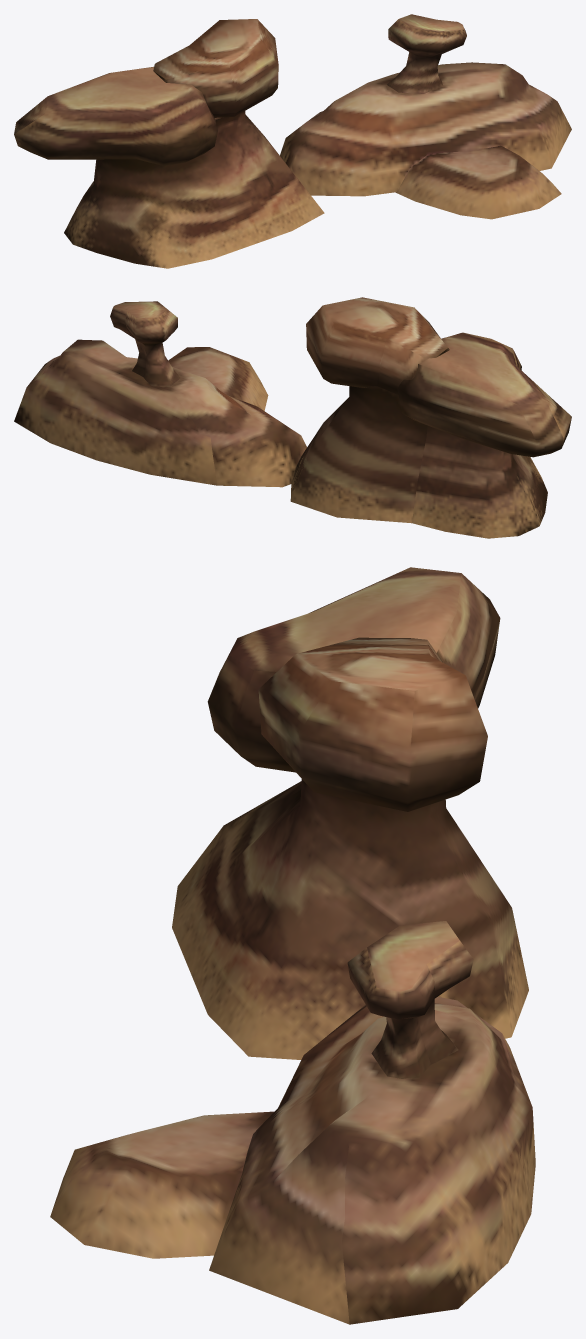
The model's file is shitou09.FBX.
The picture shows the model from 3 angles, top to bottom: view 1: azimuth 30°, elevation 25°; view 2: azimuth 150°, elevation 25°; view 3: azimuth 270°, elevation 25°; orthographic projection. The views are drawn at different scales.
Visible parts, largest first — view 1: shitou09; view 2: shitou09; view 3: shitou09.
Boxes of the visible parts, x1,y1,x2,y2 form: shitou09: (14, 14, 571, 268); shitou09: (14, 297, 571, 538); shitou09: (50, 567, 535, 1324).
Bounding box in the file's own units: 592 × 183 × 233.
